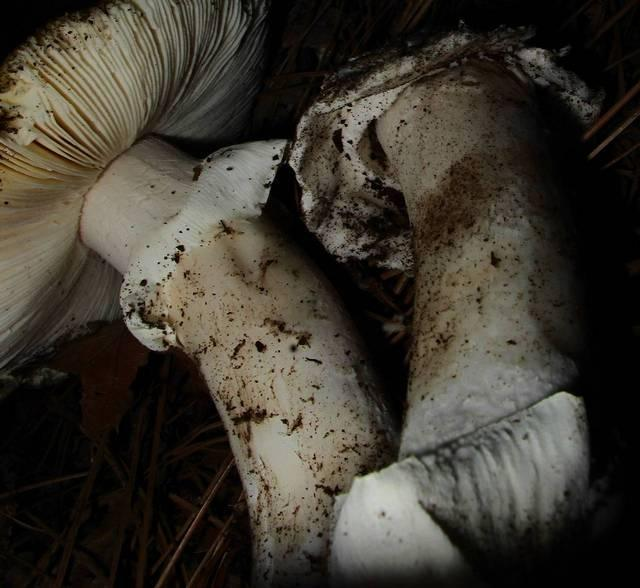Edible Mushroom: (0, 0, 399, 587), (285, 23, 608, 587), (0, 0, 274, 380)
